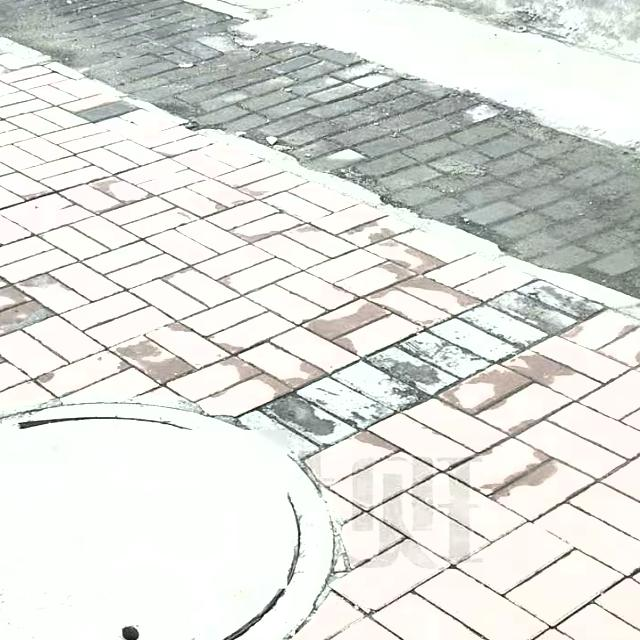circle: (0, 402, 344, 640)
